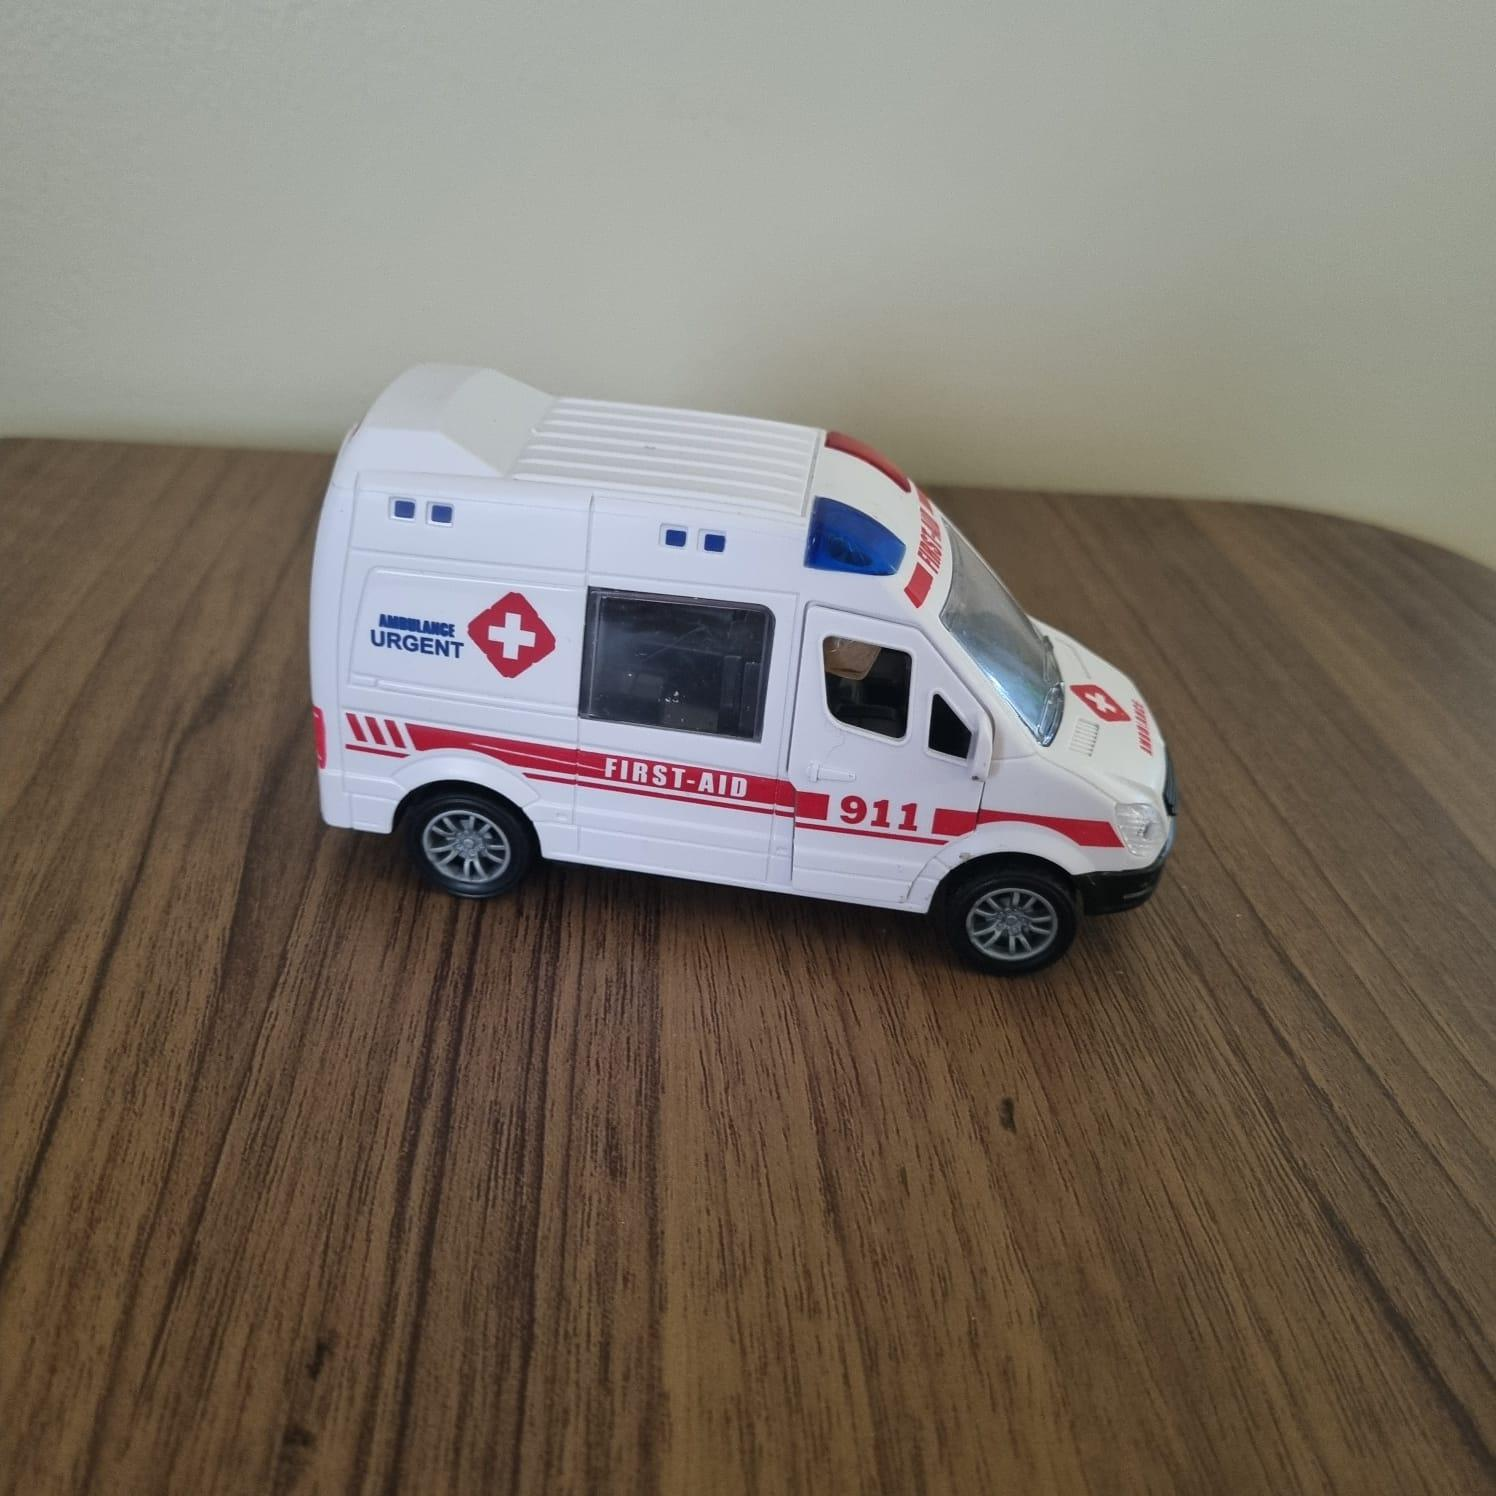ambulance_off: (312, 359, 1178, 978)
